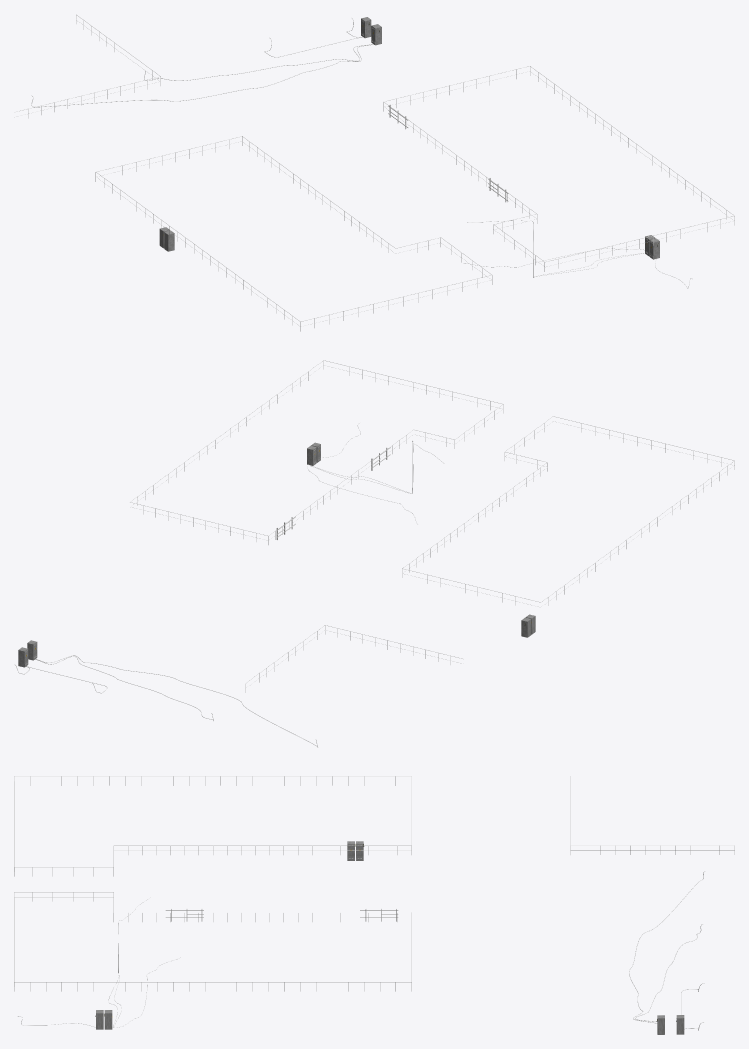
Rendered from WiresBoxAndFence.fbx.
3 renders of one model, top to bottom at view 1: azimuth 30°, elevation 25°; view 2: azimuth 150°, elevation 25°; view 3: azimuth 270°, elevation 25°, orthographic. The views are drawn at different scales.
Visible parts, largest first — view 1: Цилиндр.045, Цилиндр.049; view 2: no part large enough to name; view 3: Цилиндр.061, Цилиндр.049, Цилиндр.045.
Part boxes in pixels (left/top/right/bottom): Цилиндр.045: left=95, top=172, right=300, bottom=331; Цилиндр.049: left=530, top=66, right=734, bottom=225; Цилиндр.061: left=114, top=845, right=411, bottom=854; Цилиндр.049: left=14, top=982, right=411, bottom=991; Цилиндр.045: left=14, top=776, right=411, bottom=785.
Size of the model in its own units: 5461 by 821 by 8077.
